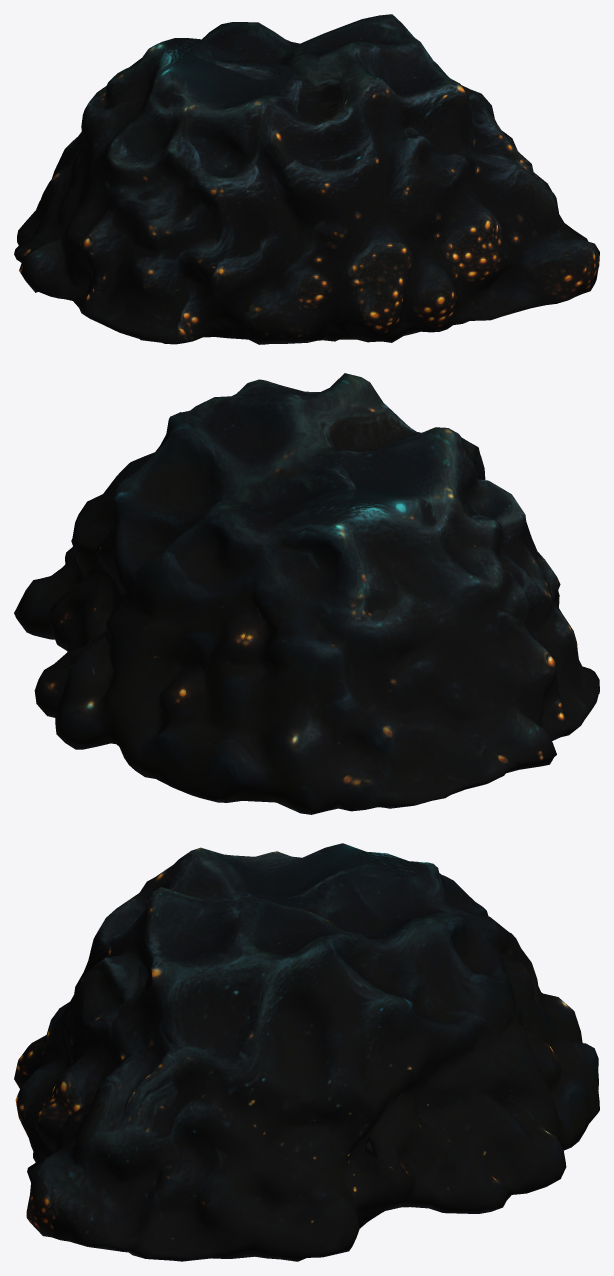
The model's file is Meshy_AI_Alien_barnacles_clust_0301230506_texture.fbx.
3 views of the same model, one above another, from view 1: azimuth 30°, elevation 25°; view 2: azimuth 150°, elevation 25°; view 3: azimuth 270°, elevation 25° (orthographic). The views are drawn at different scales.
Parts seen in each view (by area): view 1: Mesh_0; view 2: Mesh_0; view 3: Mesh_0.
Part boxes in pixels (bbox=[...]): Mesh_0: bbox=[14, 14, 599, 344]; Mesh_0: bbox=[14, 373, 599, 814]; Mesh_0: bbox=[14, 843, 599, 1261].
Size of the model in its own units: 200 by 87.84 by 182.
Materials: 1 (1 with a texture image).
